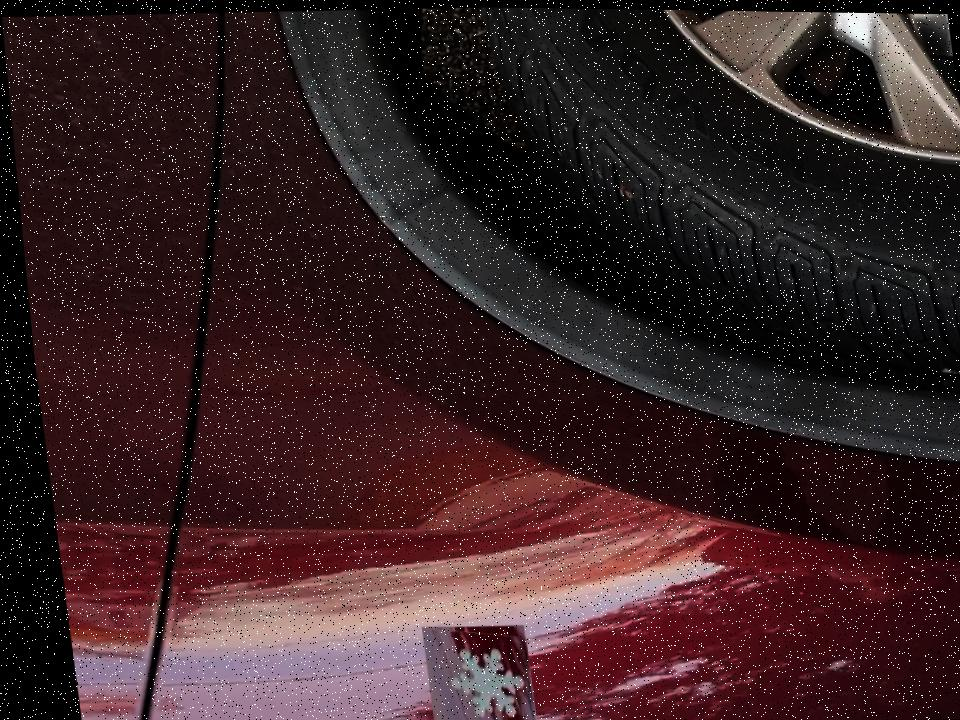dent: (410, 621, 523, 720), (960, 639, 960, 708)
